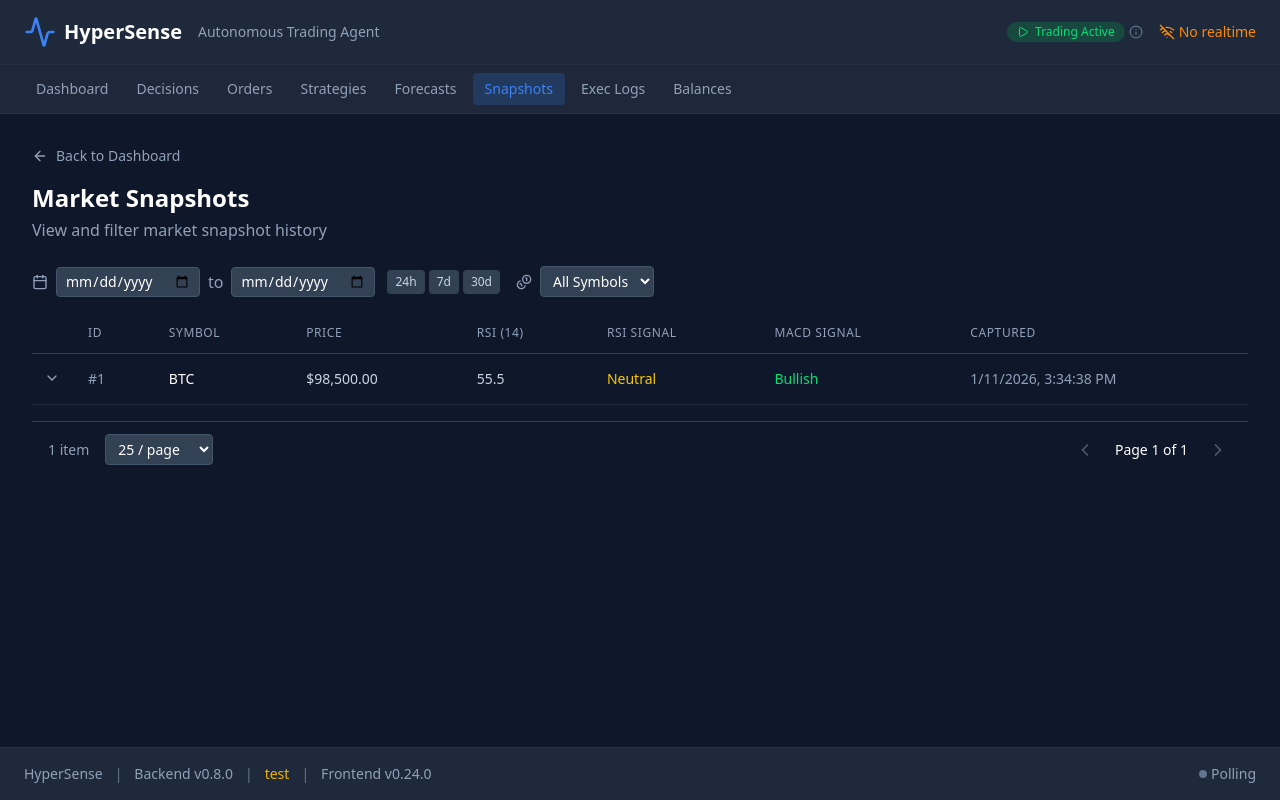
Test: MarketSnapshotsPage › Data Table › expands row to show indicators
Click the button named "expand row" at (52, 378), box [40,366,64,390]
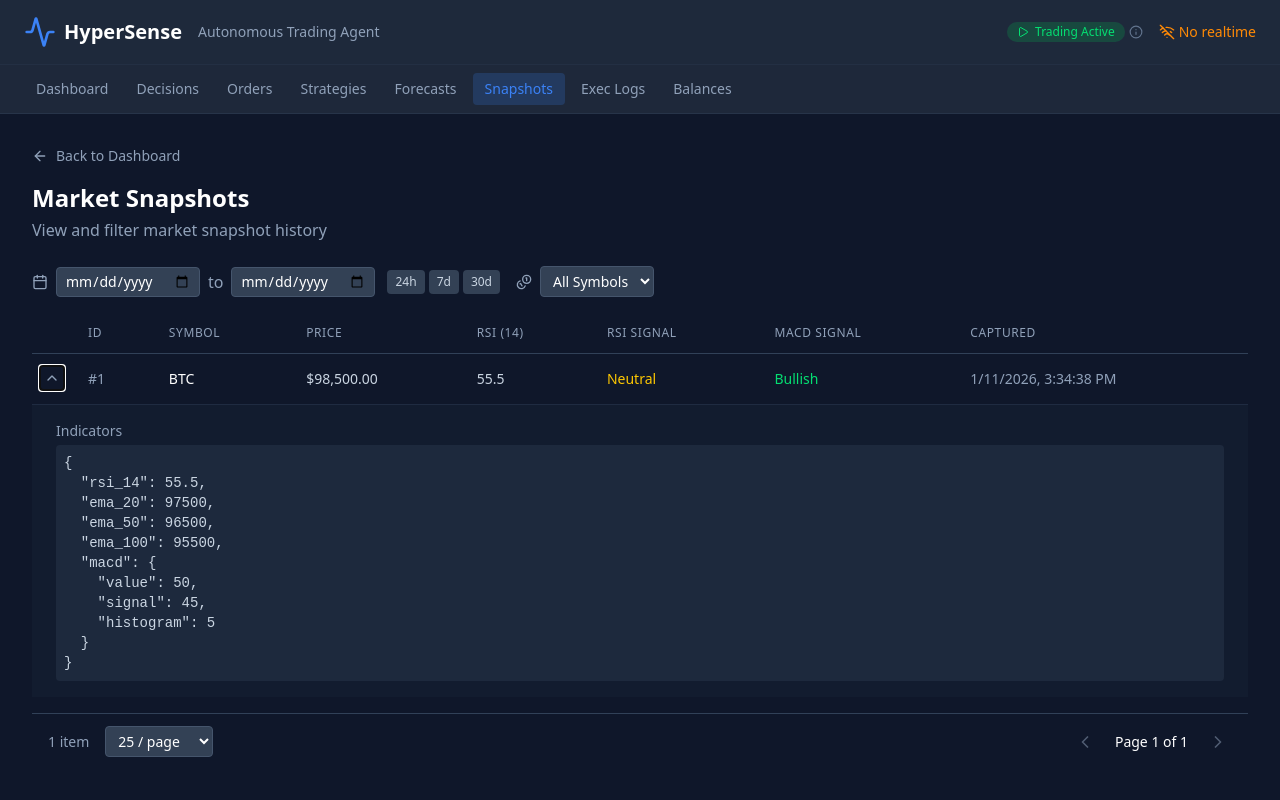
Check: the text "rsi_14" is shown, box [64,455,224,671]
